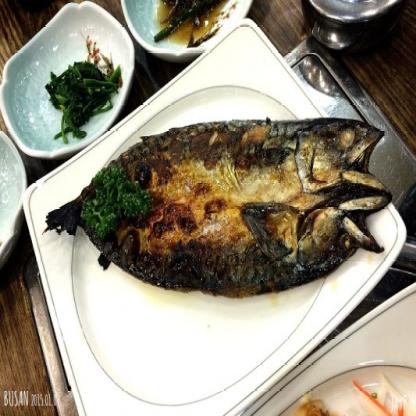Peixe: (79, 112, 396, 302)
